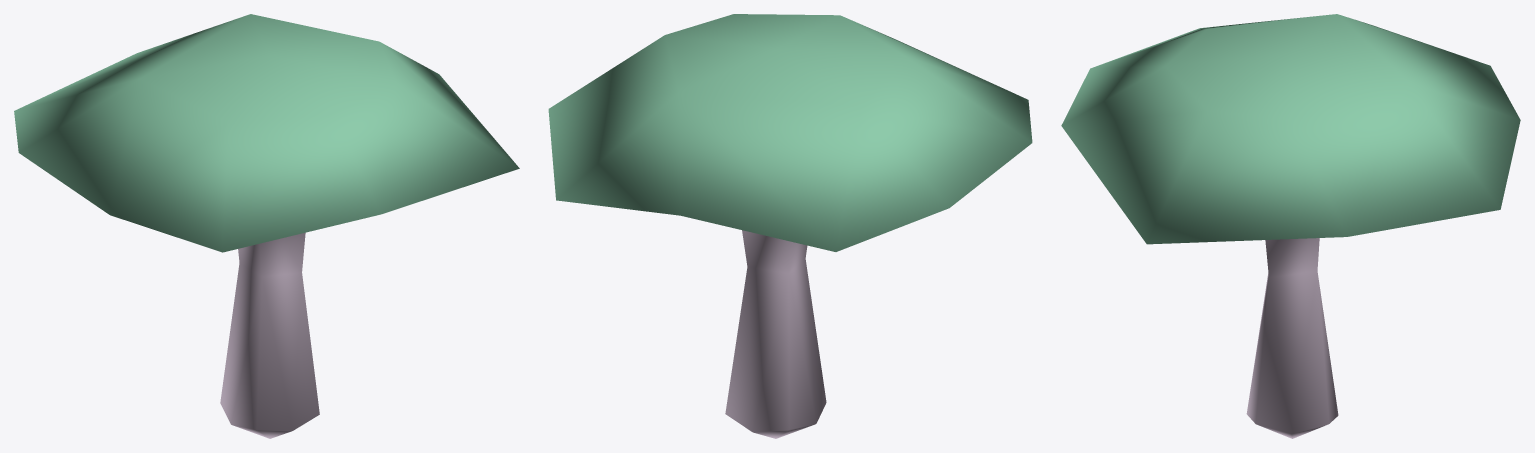
The model's file is Cave Mushroom.fbx.
The picture shows the model from 3 angles, left to right: view 1: azimuth 30°, elevation 25°; view 2: azimuth 150°, elevation 25°; view 3: azimuth 270°, elevation 25°; orthographic projection.
Visible parts, largest first — view 1: Cave Mushroom; view 2: Cave Mushroom; view 3: Cave Mushroom.
Boxes of the visible parts, x1,y1,x2,y2 form: Cave Mushroom: (14, 14, 519, 438); Cave Mushroom: (548, 14, 1032, 438); Cave Mushroom: (1061, 14, 1520, 438).
Size of the model in its own units: 77.97 by 70.04 by 75.67.
